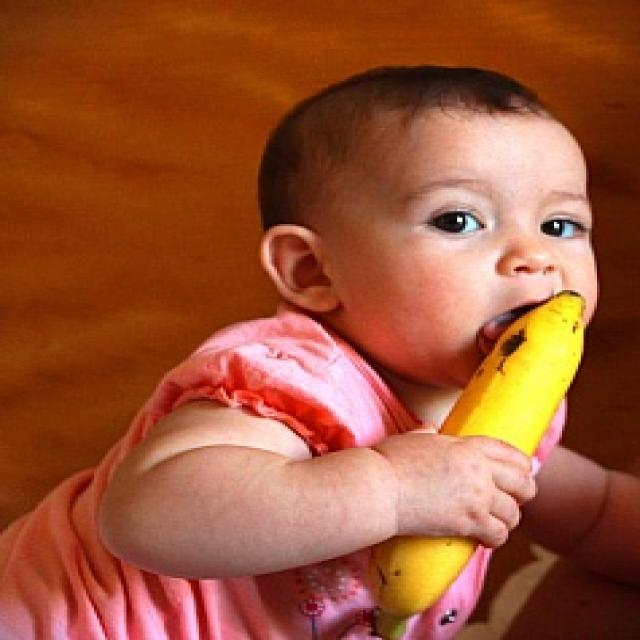Eyes: (395, 196, 596, 244)
